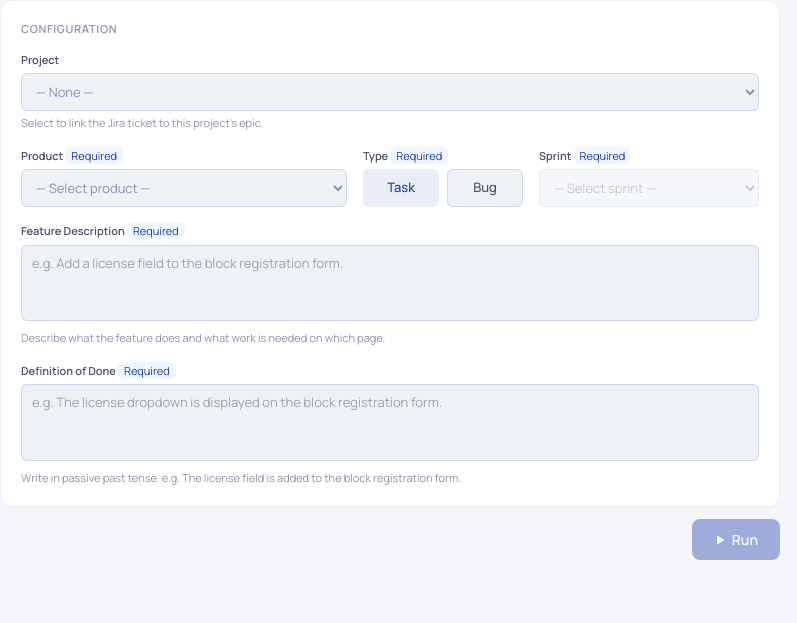
Test case: JiraTicketForm › Run 실행 › Run 실패 시 에러 메시지가 표시된다
Step 1. Select "ODM" in the dropdown with test id "product-select" → [184, 188], box [21, 169, 347, 207]
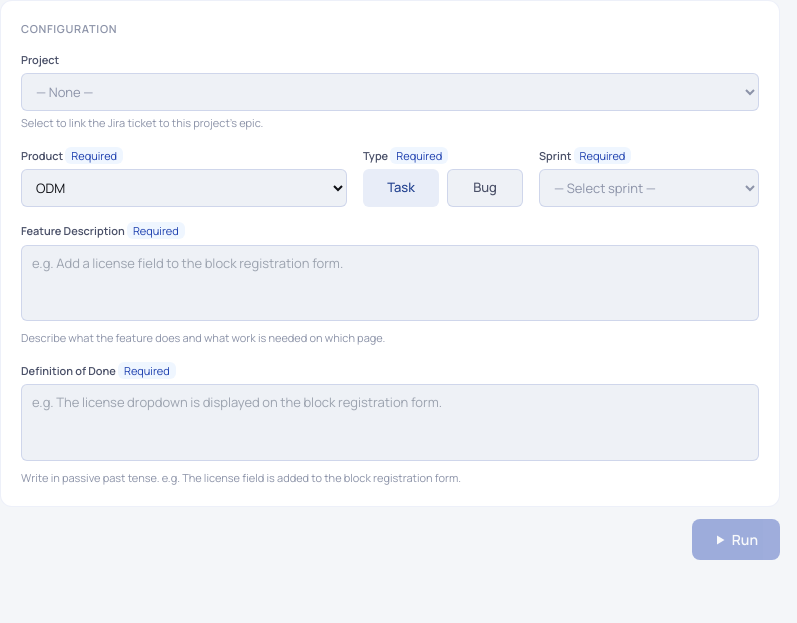
Step 2. Select "Onco Sprint 79" in the dropdown with test id "sprint-select" → [649, 188], box [539, 169, 759, 207]
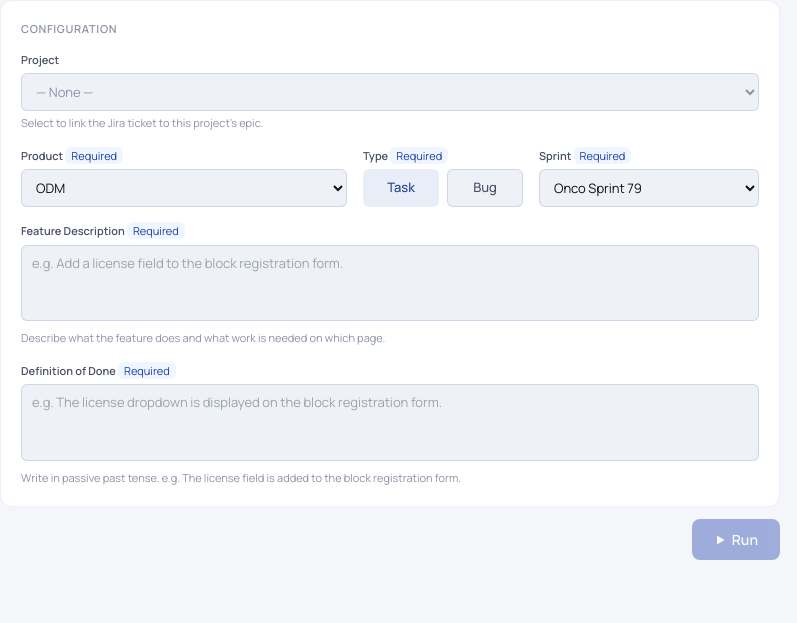
Step 3. Type "기능 설명" into the text box with test id "feature-input" → [390, 283], box [21, 244, 759, 321]
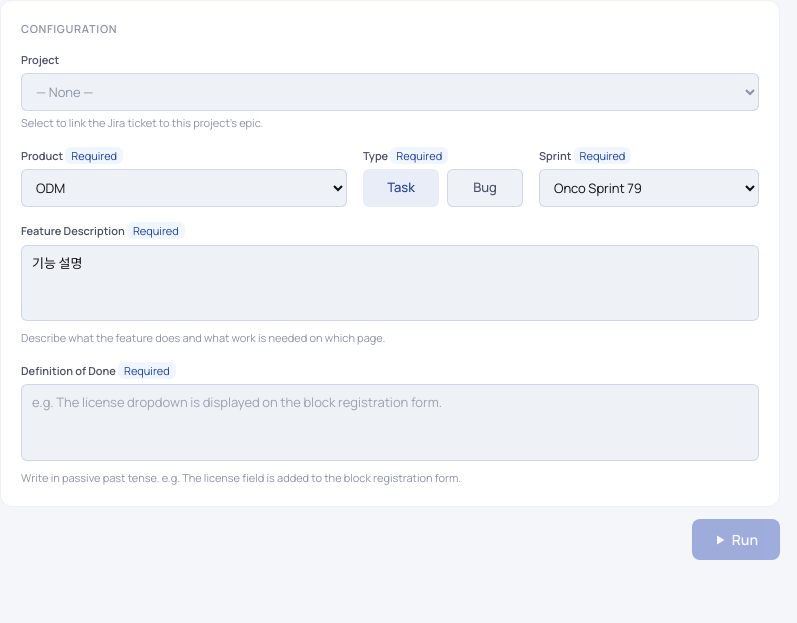
Step 4. Replace the text in the text box with test id "dod-input" with "완료 조건" → [390, 422], box [21, 384, 759, 460]
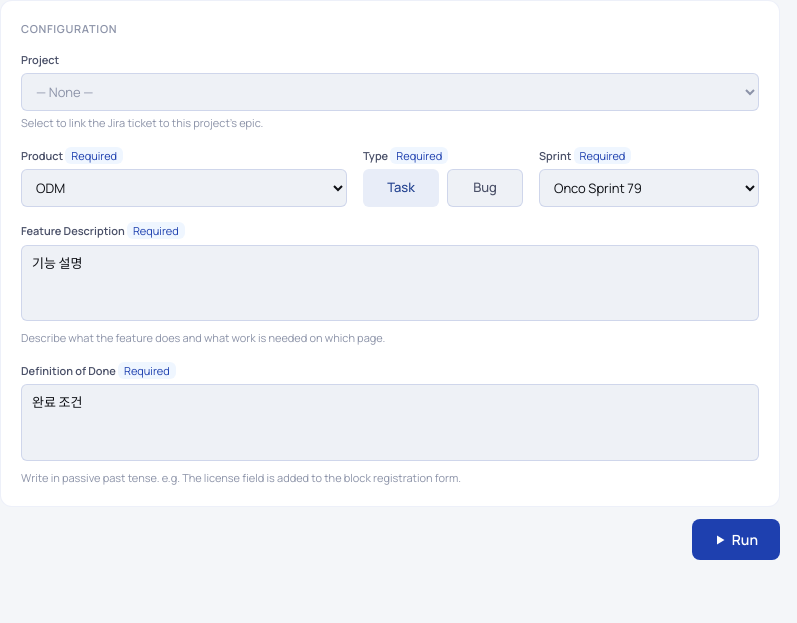
Step 5. Click the button with test id "run-btn" → [736, 540], box [692, 519, 780, 560]
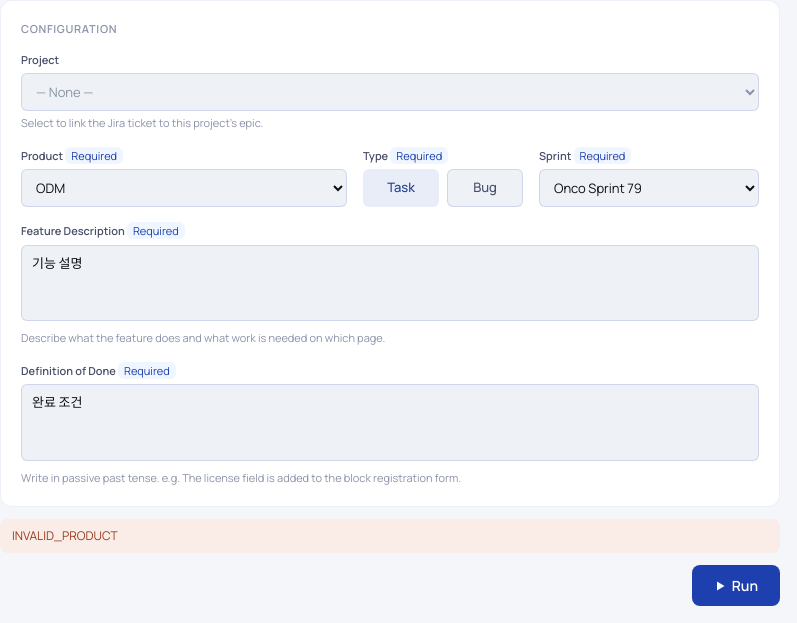
Check: the text "INVALID_PRODUCT" is shown, box [0, 519, 780, 553]
